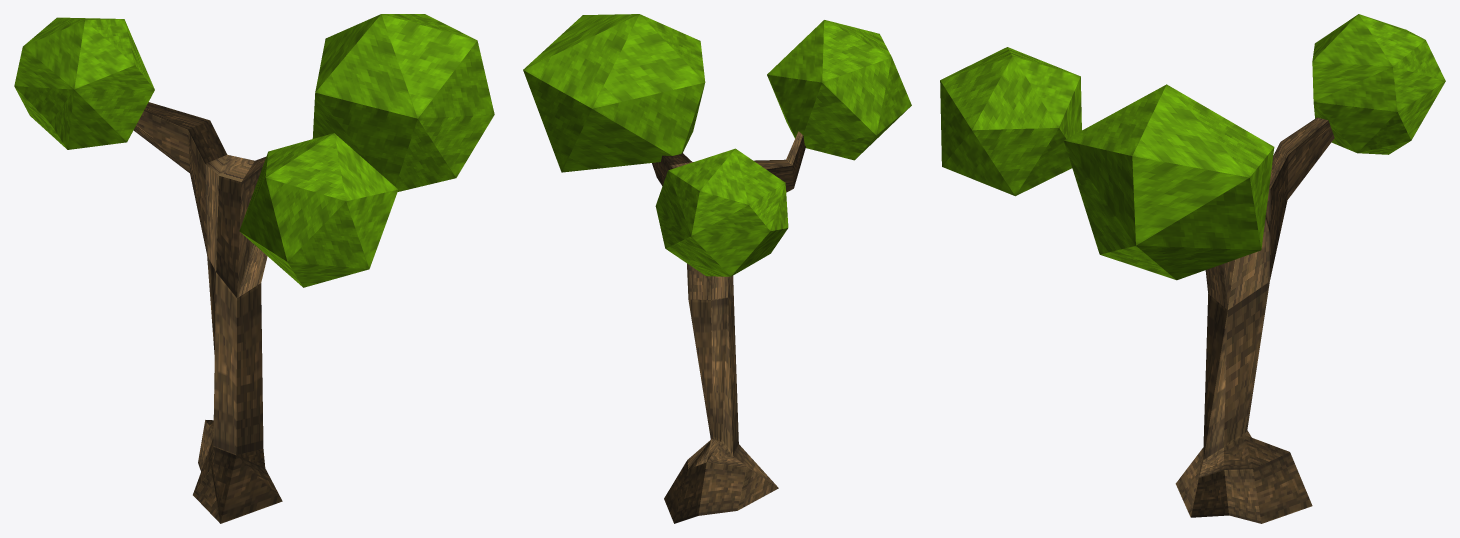
The model's file is Tree 2.fbx.
3 views of the same model, side by side, from view 1: azimuth 30°, elevation 25°; view 2: azimuth 150°, elevation 25°; view 3: azimuth 270°, elevation 25° (orthographic). The views are drawn at different scales.
Visible parts, largest first — view 1: TreeTrunk_Cylinder, Leaves3_Icosphere_002, Leaves_Icosphere, Leaves2_Icosphere_001; view 2: Leaves3_Icosphere_002, TreeTrunk_Cylinder, Leaves_Icosphere, Leaves2_Icosphere_001; view 3: Leaves3_Icosphere_002, TreeTrunk_Cylinder, Leaves_Icosphere, Leaves2_Icosphere_001.
Part boxes in pixels (x1,y1,x2,y2): TreeTrunk_Cylinder: (133, 102, 282, 523); Leaves3_Icosphere_002: (312, 14, 494, 191); Leaves_Icosphere: (239, 133, 398, 287); Leaves2_Icosphere_001: (14, 17, 154, 149); Leaves3_Icosphere_002: (523, 14, 705, 172); TreeTrunk_Cylinder: (652, 131, 805, 523); Leaves_Icosphere: (767, 20, 911, 160); Leaves2_Icosphere_001: (655, 148, 788, 276); Leaves3_Icosphere_002: (1063, 84, 1274, 280); TreeTrunk_Cylinder: (1175, 117, 1334, 523); Leaves_Icosphere: (940, 47, 1081, 196); Leaves2_Icosphere_001: (1312, 14, 1445, 154).
Size of the model in its own units: 43.25 by 55.65 by 53.62.
Materials: 2 (2 with a texture image).
